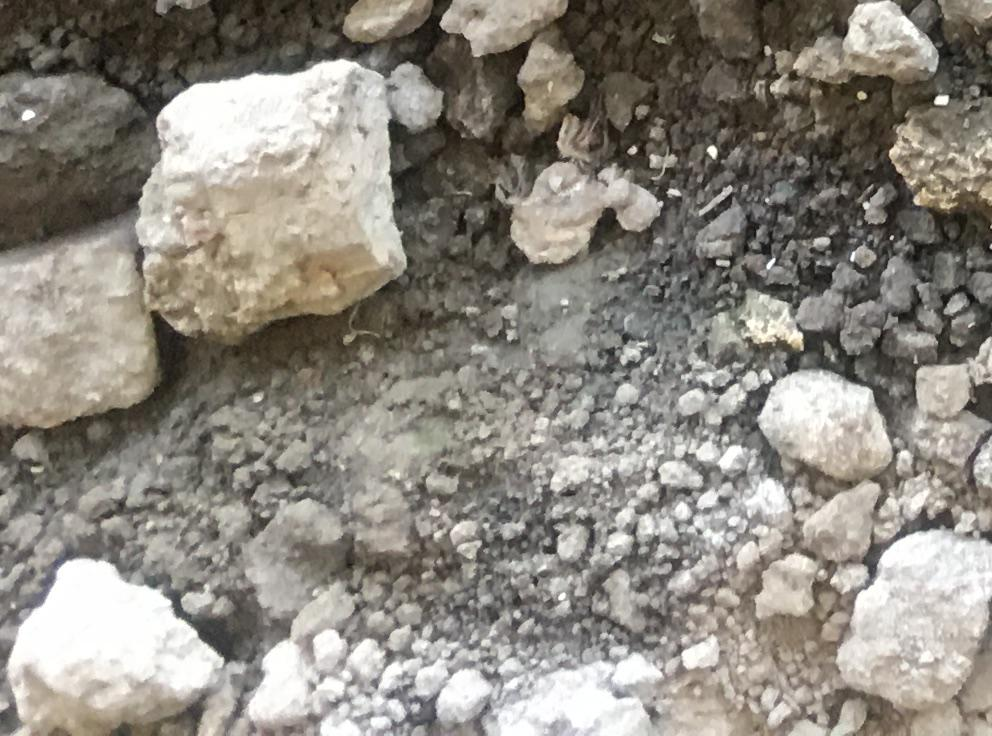block: (133, 56, 409, 348), (5, 549, 224, 734), (1, 216, 163, 434), (834, 524, 992, 712), (752, 357, 898, 488), (894, 93, 992, 214), (840, 2, 945, 87)
